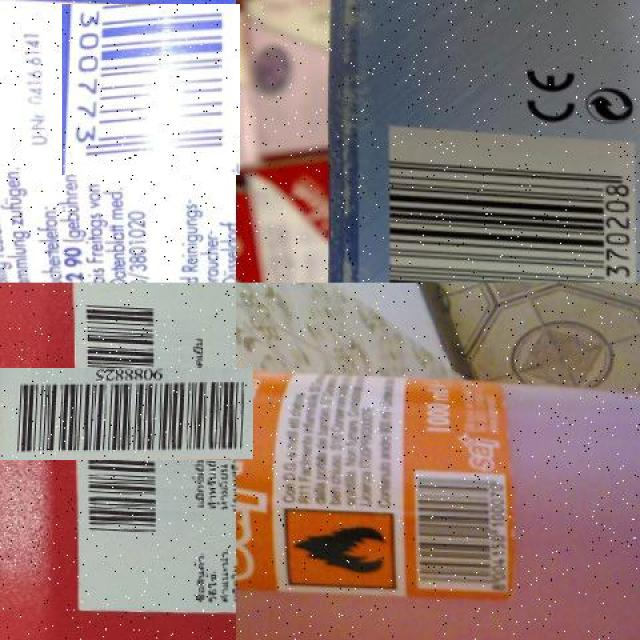Barcode: (384, 128, 637, 283), (37, 326, 212, 502), (63, 2, 238, 177), (413, 464, 511, 596)
